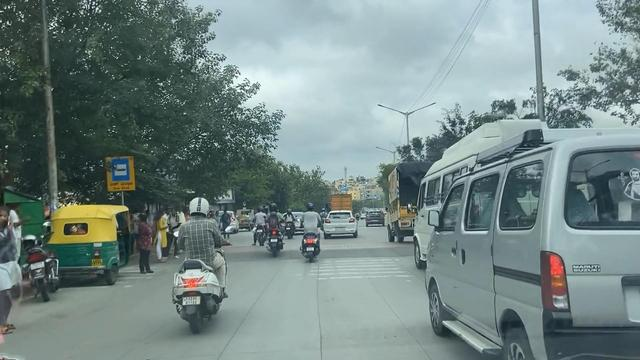LMV: (442, 140, 640, 360), (174, 200, 223, 337)
